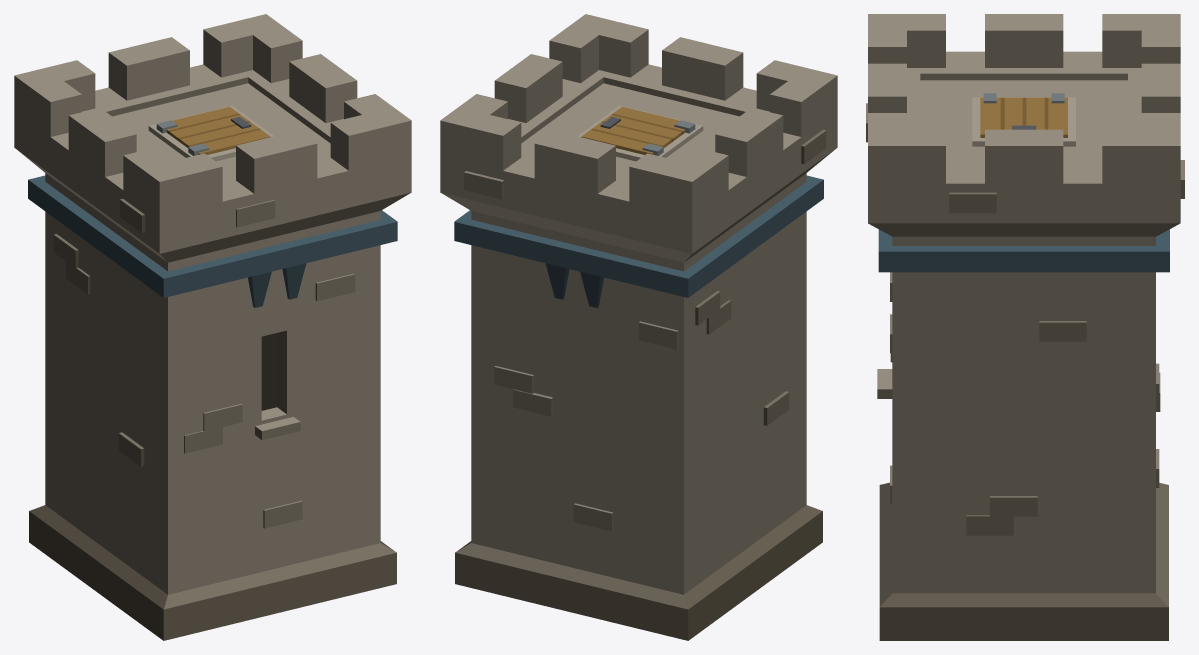
The model's file is SF_Bld_Castle_Wall_Tower_01.fbx.
3 renders of one model, left to right at view 1: azimuth 30°, elevation 25°; view 2: azimuth 150°, elevation 25°; view 3: azimuth 270°, elevation 25°, orthographic. The views are drawn at different scales.
Parts seen in each view (by area): view 1: SF_Bld_Castle_Wall_Tower_01; view 2: SF_Bld_Castle_Wall_Tower_01; view 3: SF_Bld_Castle_Wall_Tower_01.
Boxes of the visible parts, x1,y1,x2,y2 form: SF_Bld_Castle_Wall_Tower_01: [14, 14, 411, 640]; SF_Bld_Castle_Wall_Tower_01: [440, 14, 837, 640]; SF_Bld_Castle_Wall_Tower_01: [866, 14, 1184, 640].
Size of the model in its own units: 8.4 by 14.46 by 8.36.
